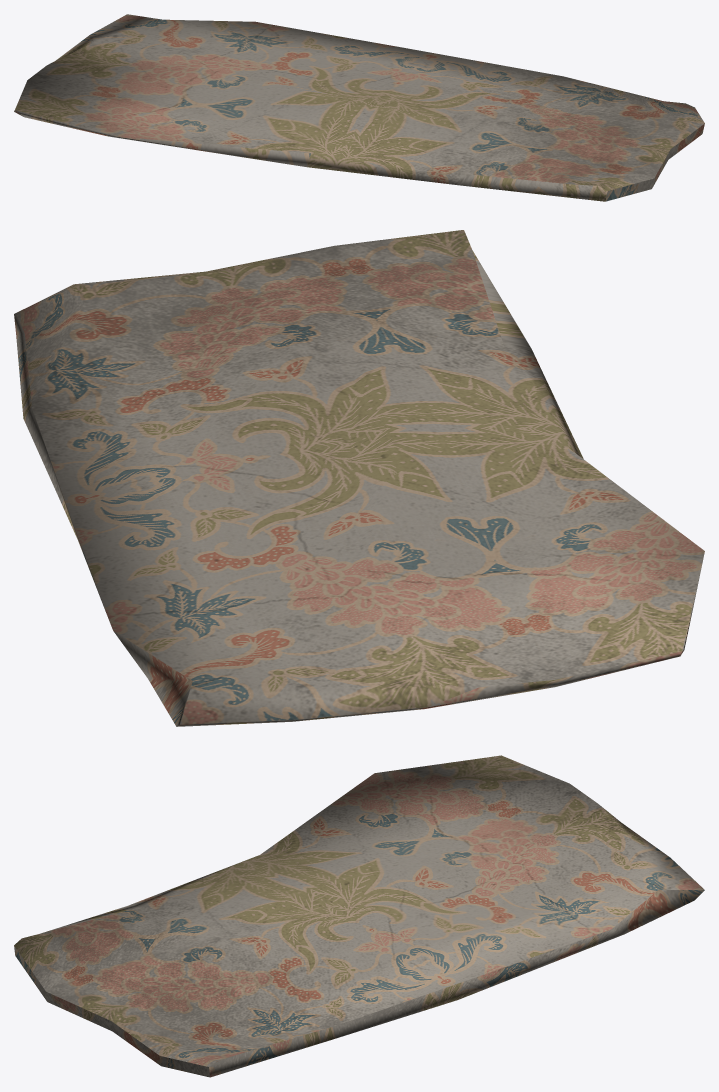
File: KainBatik3.fbx
3 views of the same model, one above another, from view 1: azimuth 30°, elevation 25°; view 2: azimuth 150°, elevation 25°; view 3: azimuth 270°, elevation 25° (orthographic). The views are drawn at different scales.
Visible parts, largest first — view 1: Plane008; view 2: Plane008; view 3: Plane008.
Boxes of the visible parts, bbox=[...] form: Plane008: bbox=[14, 14, 704, 201]; Plane008: bbox=[14, 230, 704, 726]; Plane008: bbox=[14, 755, 704, 1077].
Size of the model in its own units: 12.59 by 1.05 by 13.09.
